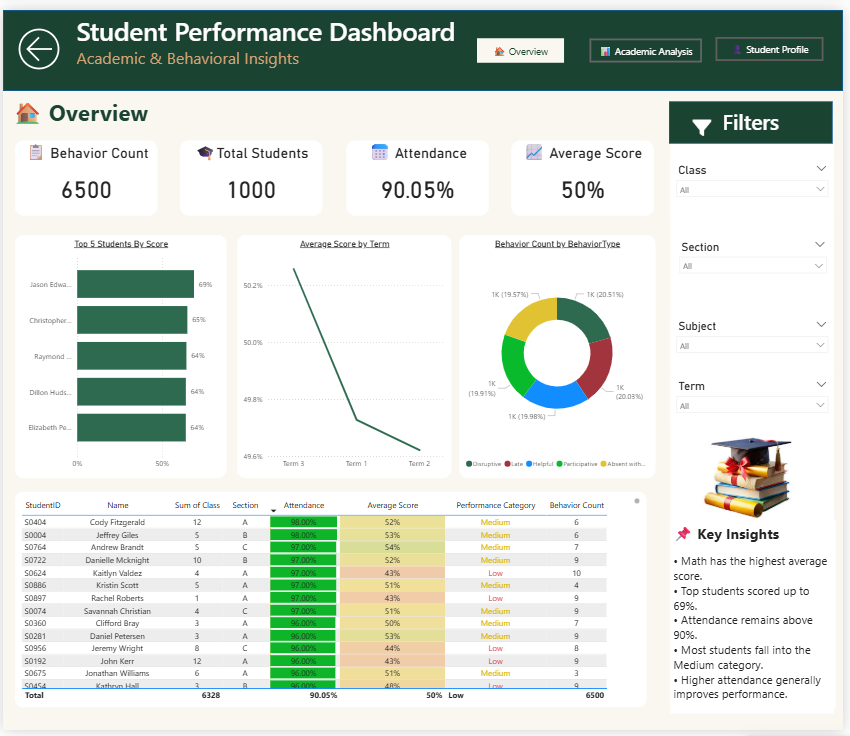

The page's visual inventory and layout, read from the dashboard file:
{"tool":"powerbi","page":{"name":"Overview","canvas":[1400,1200],"ordinal":0},"visuals":[{"type":"card","title":"🎓Total Students","fields":{"Values":["Measure.Total Student"]},"box":[296.2,216.7,237,125],"z":0},{"type":"card","title":"📋 Behavior Count","fields":{"Values":["Measure.Behavior Count"]},"box":[20,216.7,237.5,125],"z":1000},{"type":"card","title":"📈 Average Score","fields":{"Values":["Measure.Average Score"]},"box":[847.5,216.7,237,125],"z":2000},{"type":"card","title":"📅 Attendance ","fields":{"Values":["Measure.Attendance %"]},"box":[571.8,216.7,237,125],"z":3000},{"type":"clusteredBarChart","title":"Top 5 Students By Score","fields":{"Category":["Students.Name"],"Y":["Measure.Average Score"]},"box":[20,375,352.5,405],"z":4000},{"type":"lineChart","fields":{"Category":["Scores.Term"],"Y":["Measure.Average Score"]},"box":[390,375,357.5,405],"z":5000},{"type":"donutChart","fields":{"Category":["Behavior.BehaviorType"],"Y":["Measure.Behavior Count"]},"box":[760,375,327.5,405],"z":6000},{"type":"tableEx","fields":{"Values":["Students.StudentID","Students.Name","Sum(Students.Class)","Students.Section","Measure.Attendance %","Measure.Average Score","Measure.Performance Category","Measure.Behavior Count"]},"box":[20,802.5,1052.5,360],"z":7000},{"type":"shape","box":[1111.7,173.3,272.5,1000],"z":8000},{"type":"slicer","fields":{"Values":["Students.Class"]},"box":[1112.5,250.8,272.5,100],"z":9000},{"type":"shape","box":[1110.8,151.7,272.5,70],"z":10000},{"type":"image","box":[1142.5,183.3,45,27.5],"z":11000},{"type":"slicer","fields":{"Values":["Students.Section"]},"box":[1117.5,378.3,265,87.5],"z":12000},{"type":"slicer","fields":{"Values":["Scores.Subject"]},"box":[1112.5,510.8,272.5,87.5],"z":13000},{"type":"slicer","fields":{"Values":["Scores.Term"]},"box":[1112.5,610.8,272.5,82.5],"z":14000},{"type":"image","box":[1138.3,716.7,223.3,190],"z":15000},{"type":"textbox","box":[1111.7,920,275,243.3],"z":16000},{"type":"shape","box":[0,0,1400,135],"z":17000},{"type":"textbox","box":[117.5,0,672.5,135],"z":18000},{"type":"actionButton","box":[790,47.5,145,40],"z":19000},{"type":"actionButton","box":[1187.5,45,180,40],"z":20000},{"type":"actionButton","box":[977.5,47.5,187.5,40],"z":21000},{"type":"textbox","box":[0,140,1087.5,70],"z":22000},{"type":"actionButton","box":[17.5,22.5,100,85],"z":22001}]}

Visuals, with their boxes in screenshot pixels (x1, y1, x2, y2), scaled from the page's 1400x1200 canvas onto the 850x736 screenshot:
"🎓Total Students" card: left=180, top=133, right=324, bottom=210
"📋 Behavior Count" card: left=12, top=133, right=156, bottom=210
"📈 Average Score" card: left=515, top=133, right=658, bottom=210
"📅 Attendance " card: left=347, top=133, right=491, bottom=210
"Top 5 Students By Score" clusteredBarChart: left=12, top=230, right=226, bottom=478
lineChart - Scores.Term x Measure.Average Score: left=237, top=230, right=454, bottom=478
donutChart - Behavior.BehaviorType x Measure.Behavior Count: left=461, top=230, right=660, bottom=478
tableEx - Students.StudentID x Students.Name: left=12, top=492, right=651, bottom=713
shape: left=675, top=106, right=840, bottom=720
slicer - Students.Class: left=675, top=154, right=841, bottom=215
shape: left=674, top=93, right=840, bottom=136
image: left=694, top=112, right=721, bottom=129
slicer - Students.Section: left=678, top=232, right=839, bottom=286
slicer - Scores.Subject: left=675, top=313, right=841, bottom=367
slicer - Scores.Term: left=675, top=375, right=841, bottom=425
image: left=691, top=440, right=827, bottom=556
textbox: left=675, top=564, right=842, bottom=713
shape: left=0, top=0, right=849, bottom=83
textbox: left=71, top=0, right=480, bottom=83
actionButton: left=480, top=29, right=568, bottom=54
actionButton: left=721, top=28, right=830, bottom=52
actionButton: left=593, top=29, right=707, bottom=54
textbox: left=0, top=86, right=660, bottom=129
actionButton: left=11, top=14, right=71, bottom=66
